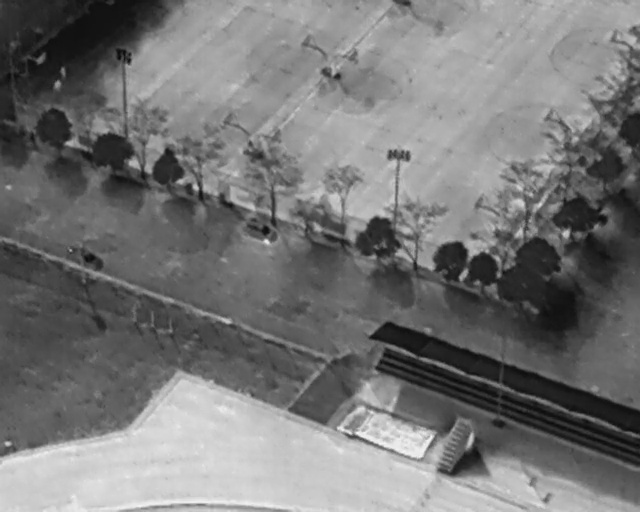Person: (51, 76, 61, 94), (59, 63, 66, 81)
